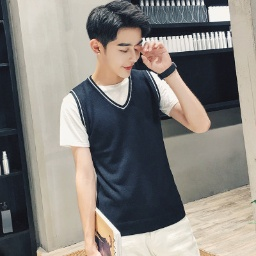face: (85, 1, 148, 81)
